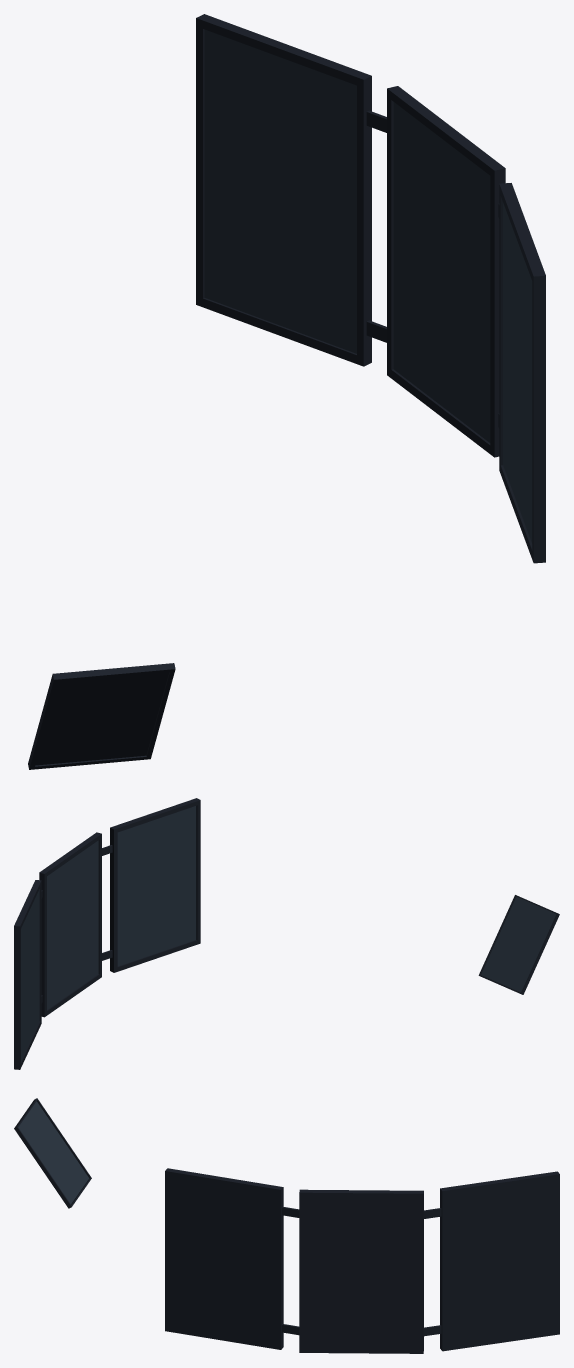
Rendered from ExtraMonitors.fbx.
The picture shows the model from 3 angles, top to bottom: view 1: azimuth 30°, elevation 25°; view 2: azimuth 150°, elevation 25°; view 3: azimuth 270°, elevation 25°; orthographic projection. The views are drawn at different scales.
Parts seen in each view (by area): view 1: SettingsMonitor, MiniSettingsMonitor; view 2: SettingsMonitor, MiniSettingsMonitor; view 3: SettingsMonitor, MiniSettingsMonitor.
Boxes of the visible parts, x1=… form: SettingsMonitor: x1=196, y1=14, x2=545, y2=563; MiniSettingsMonitor: x1=28, y1=663, x2=175, y2=769; SettingsMonitor: x1=14, y1=798, x2=200, y2=1069; MiniSettingsMonitor: x1=478, y1=895, x2=559, y2=994; SettingsMonitor: x1=165, y1=1168, x2=559, y2=1353; MiniSettingsMonitor: x1=14, y1=1098, x2=91, y2=1208.
Bounding box in the file's own units: 617 × 258 × 753.
